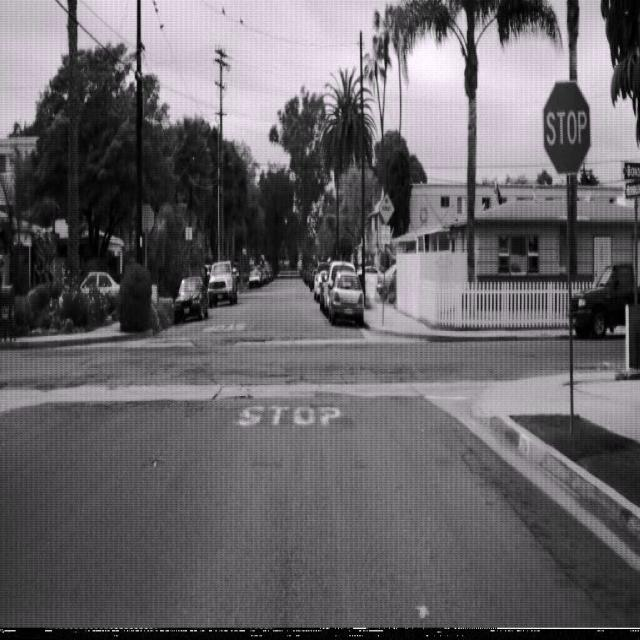stop_sign: (542, 80, 590, 175)
